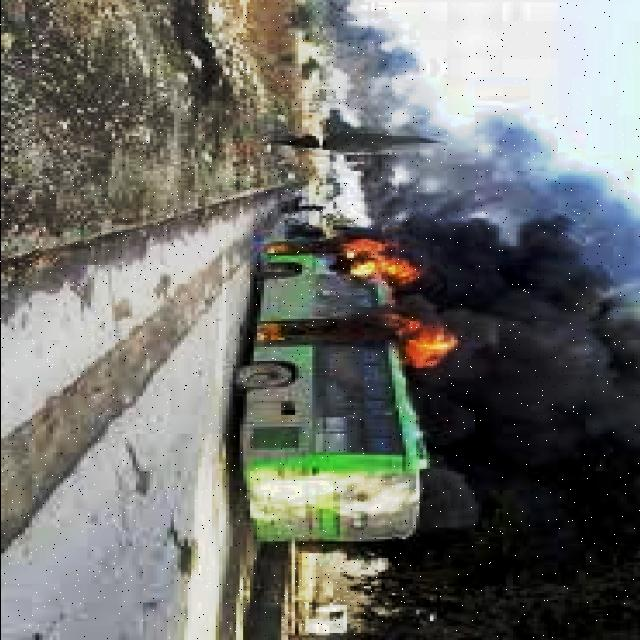api: (261, 297, 461, 386)
